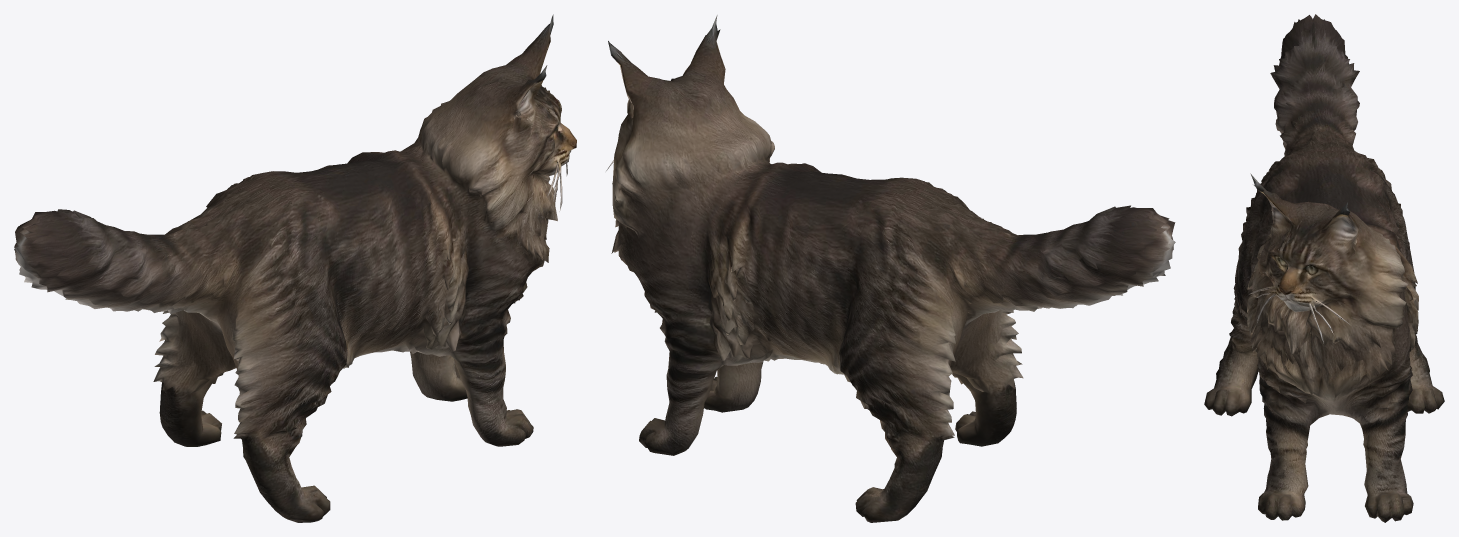
Rendered from SERPOUNCE.glb.
3 views of the same model, side by side, from view 1: azimuth 30°, elevation 25°; view 2: azimuth 150°, elevation 25°; view 3: azimuth 270°, elevation 25° (orthographic). The views are drawn at different scales.
Parts seen in each view (by area): view 1: tripo_node_b734a234-8068-432c-9d06-91c883bca57b; view 2: tripo_node_b734a234-8068-432c-9d06-91c883bca57b; view 3: tripo_node_b734a234-8068-432c-9d06-91c883bca57b.
Part boxes in pixels (x1,y1,x2,y2): tripo_node_b734a234-8068-432c-9d06-91c883bca57b: (14, 14, 576, 522); tripo_node_b734a234-8068-432c-9d06-91c883bca57b: (606, 15, 1175, 522); tripo_node_b734a234-8068-432c-9d06-91c883bca57b: (1204, 14, 1444, 522).
Bounding box in the file's own units: 1.53 × 1 × 0.618.
1 material, 1 textured.
